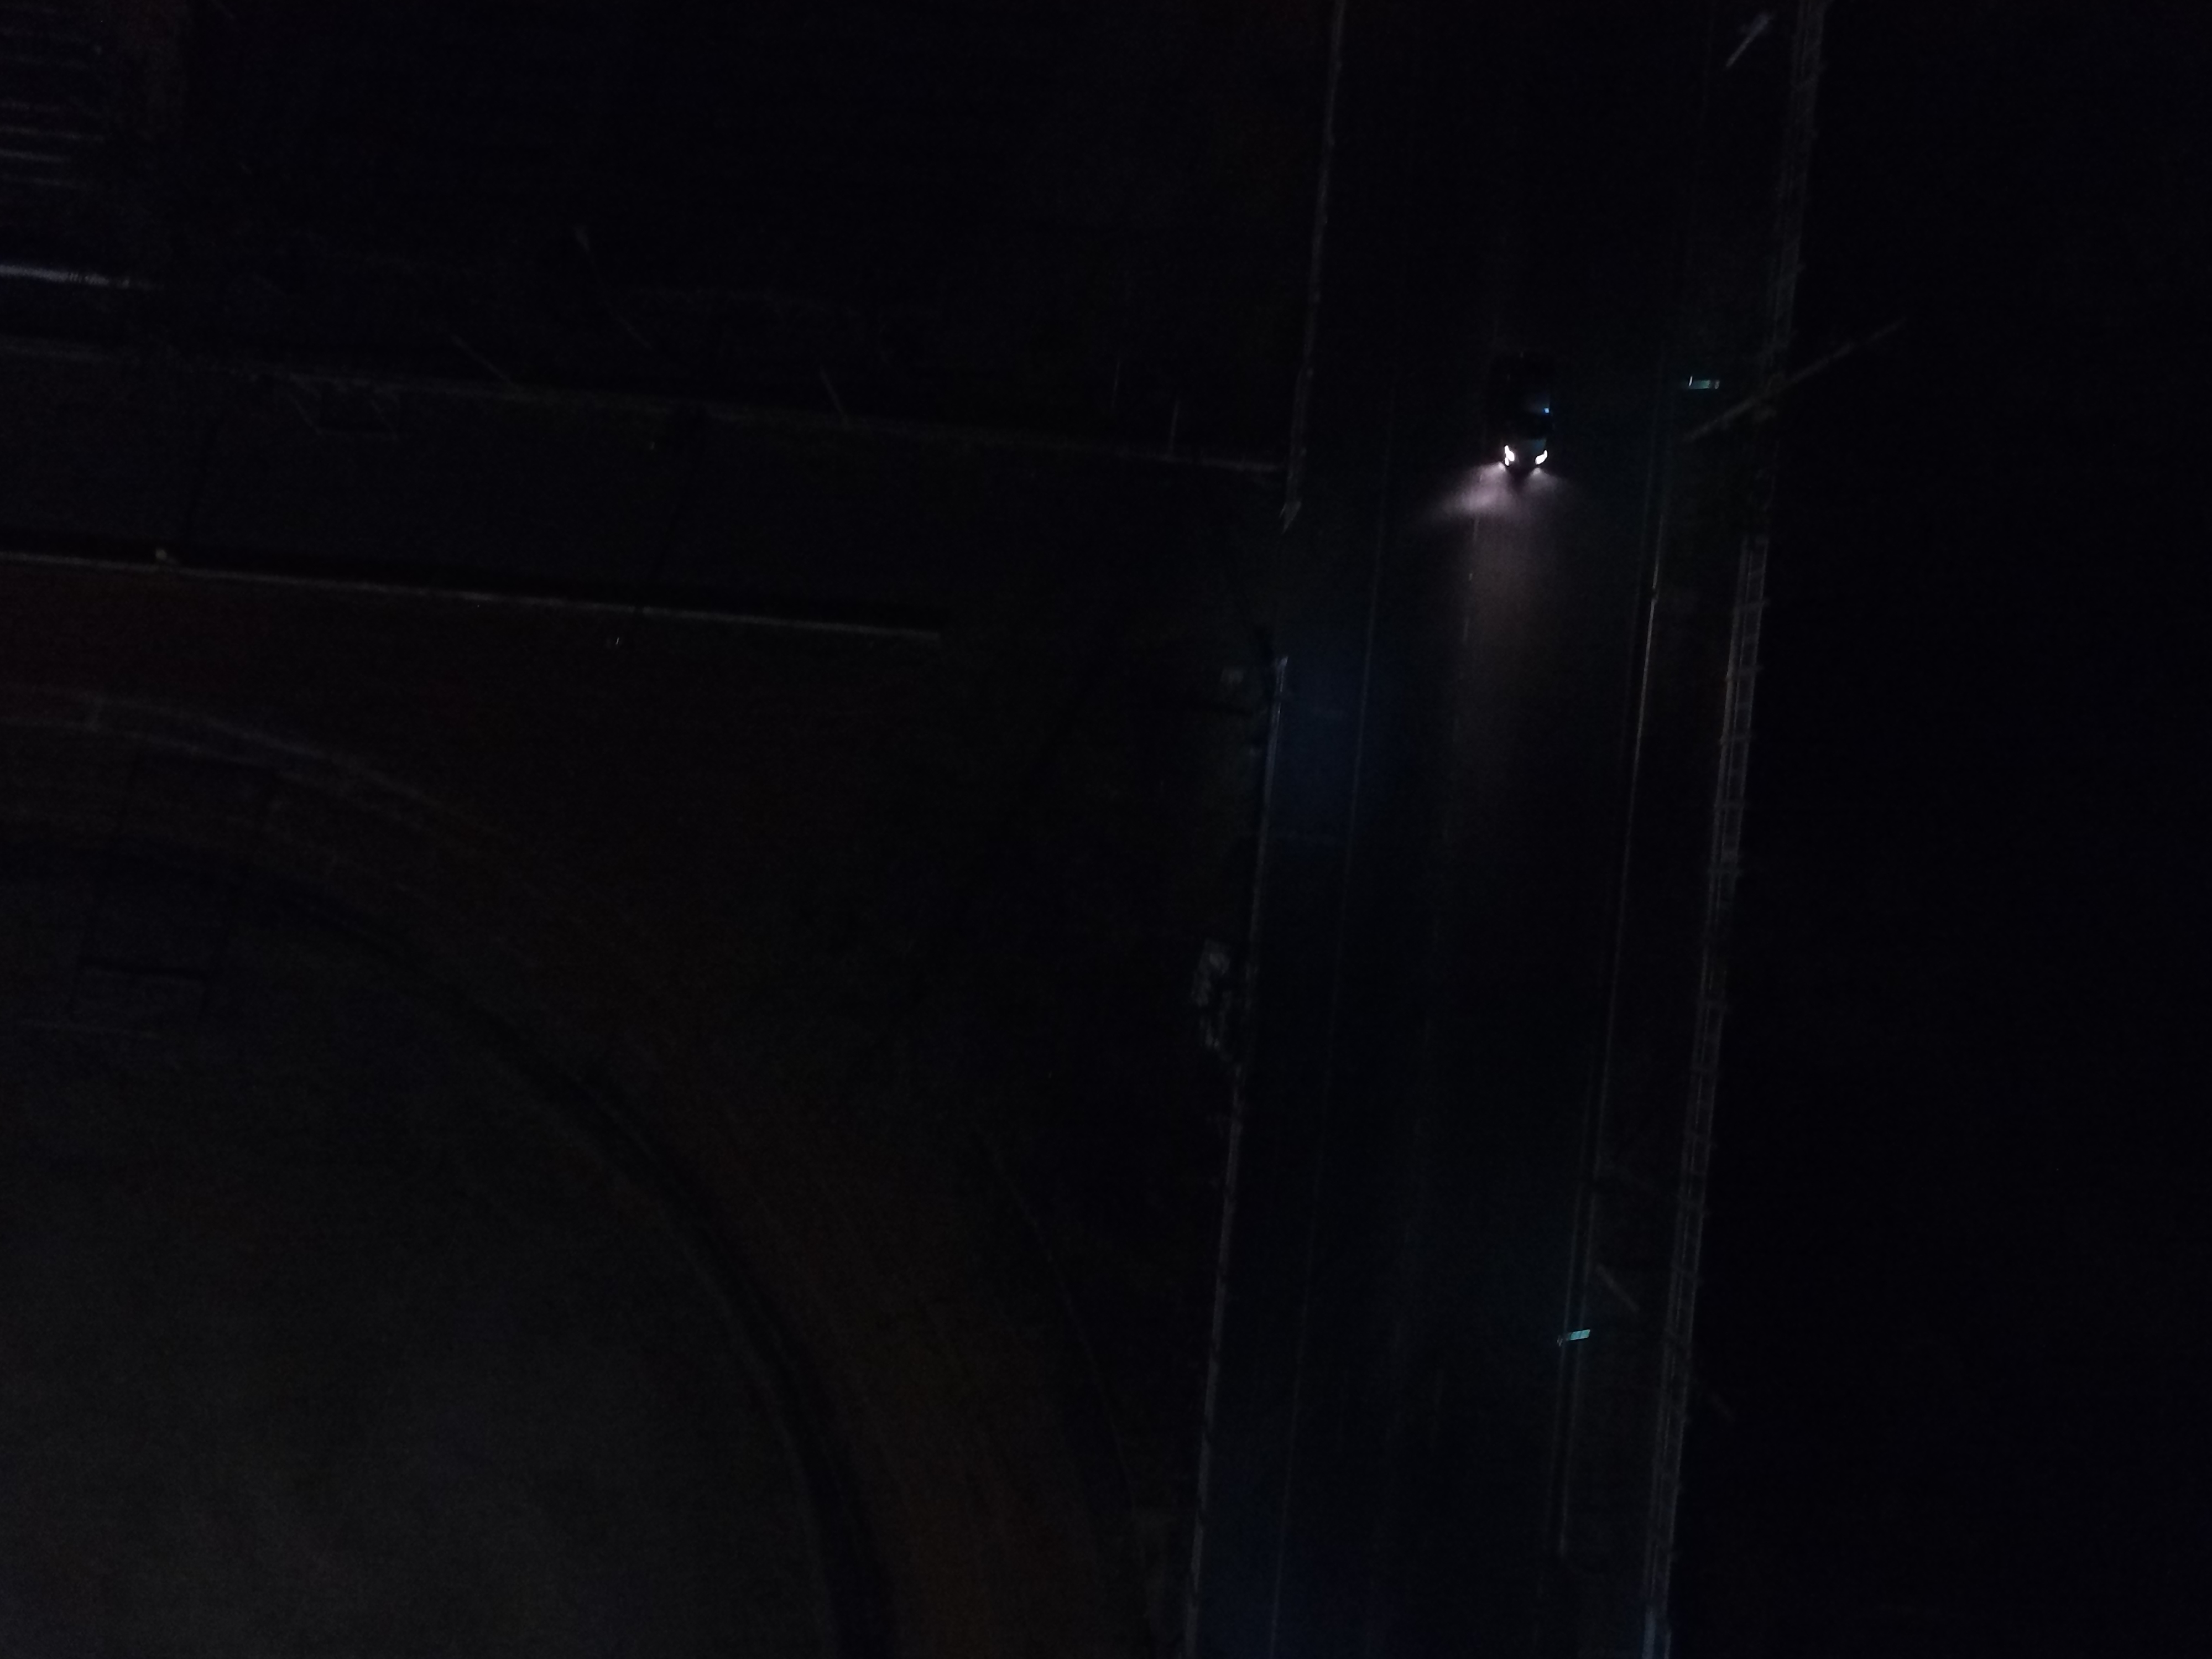car: (1486, 345, 1575, 497)
